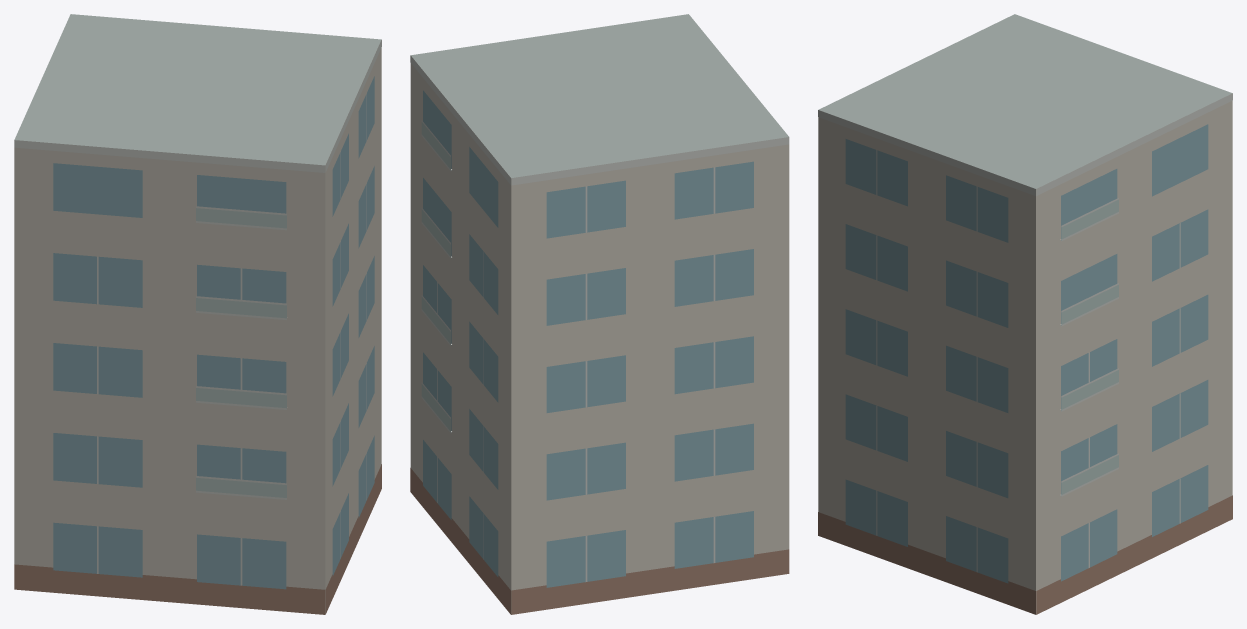
File: survey-upis-32712314.glb
3 views of the same model, side by side, from view 1: azimuth 30°, elevation 25°; view 2: azimuth 150°, elevation 25°; view 3: azimuth 270°, elevation 25° (orthographic). The views are drawn at different scales.
Parts seen in each view (by area): view 1: survey-upis-32712314.tmp; view 2: survey-upis-32712314.tmp; view 3: survey-upis-32712314.tmp.
Boxes of the visible parts, x1,y1,x2,y2 form: survey-upis-32712314.tmp: (14,14,381,614); survey-upis-32712314.tmp: (410,14,789,614); survey-upis-32712314.tmp: (818,14,1232,614).
Bounding box in the file's own units: 12.7 × 14.4 × 12.72.
